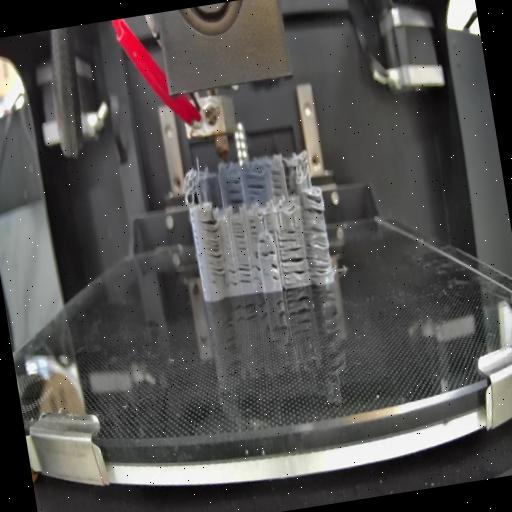cracks: (301, 224, 334, 278), (201, 214, 227, 276), (278, 245, 307, 285), (225, 258, 253, 288), (224, 174, 246, 206), (301, 190, 324, 216), (244, 172, 266, 198), (232, 219, 248, 252), (268, 168, 286, 196), (250, 250, 263, 287), (274, 226, 298, 244), (262, 210, 274, 234), (268, 260, 280, 284), (246, 216, 258, 238), (258, 248, 276, 260), (256, 236, 268, 246)
